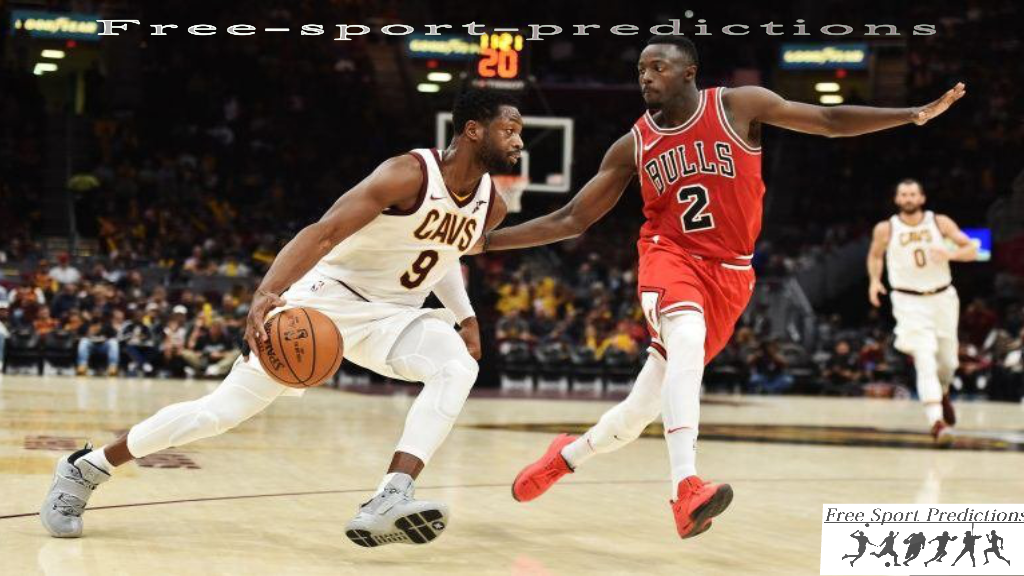ball: (252, 308, 348, 389)
basket: (488, 175, 536, 211)
player: (44, 90, 538, 548), (513, 28, 929, 538), (867, 179, 980, 440)
